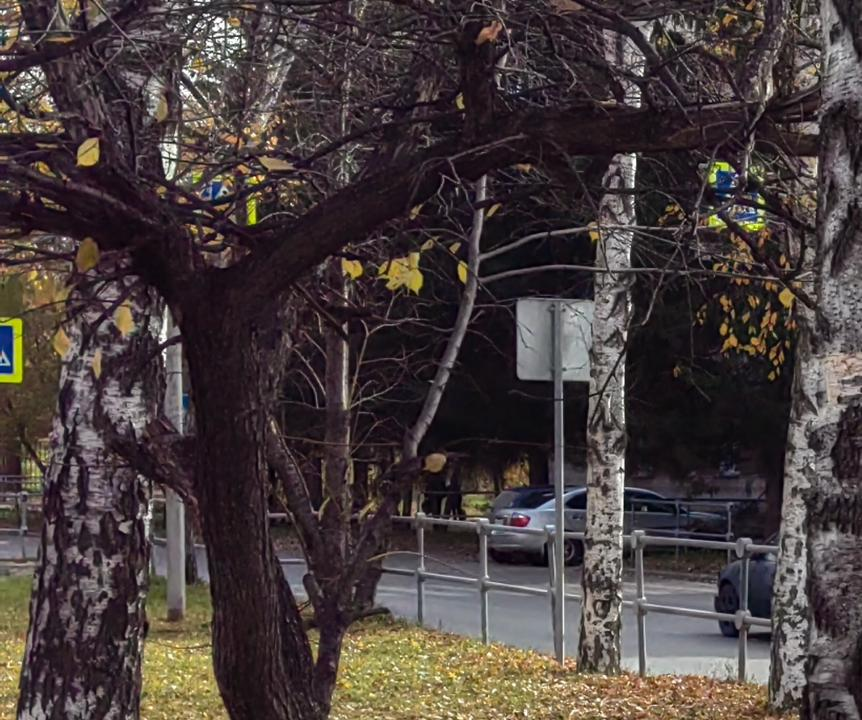obstructed_road_sign: (190, 171, 257, 238), (706, 162, 766, 228), (0, 318, 22, 384)
